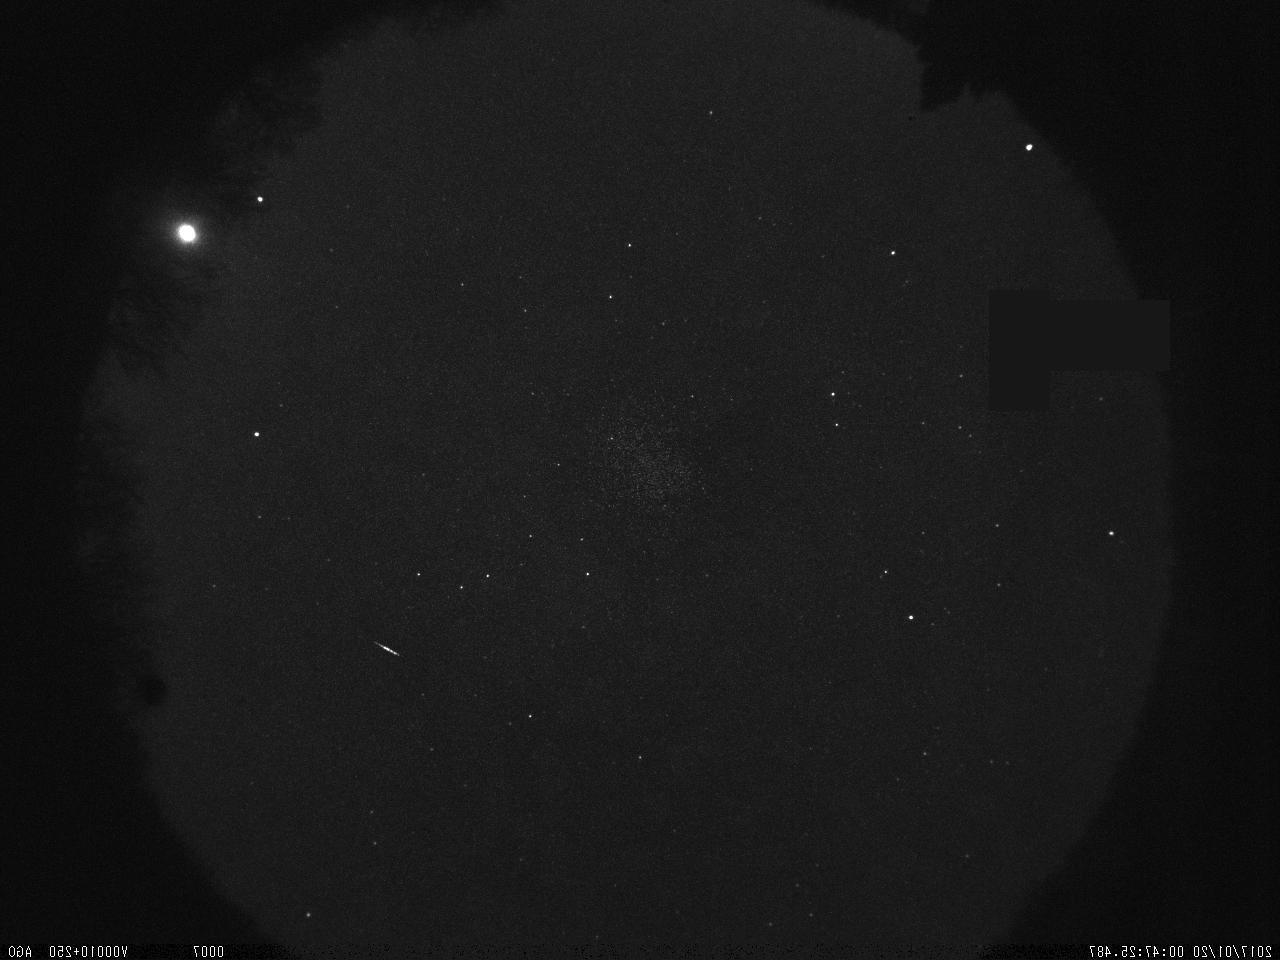meteor: (366, 627, 408, 675)
